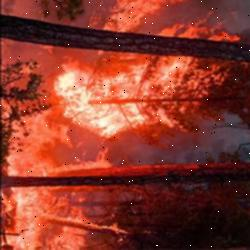fire: (38, 53, 220, 140), (0, 140, 119, 182), (0, 188, 74, 250)
